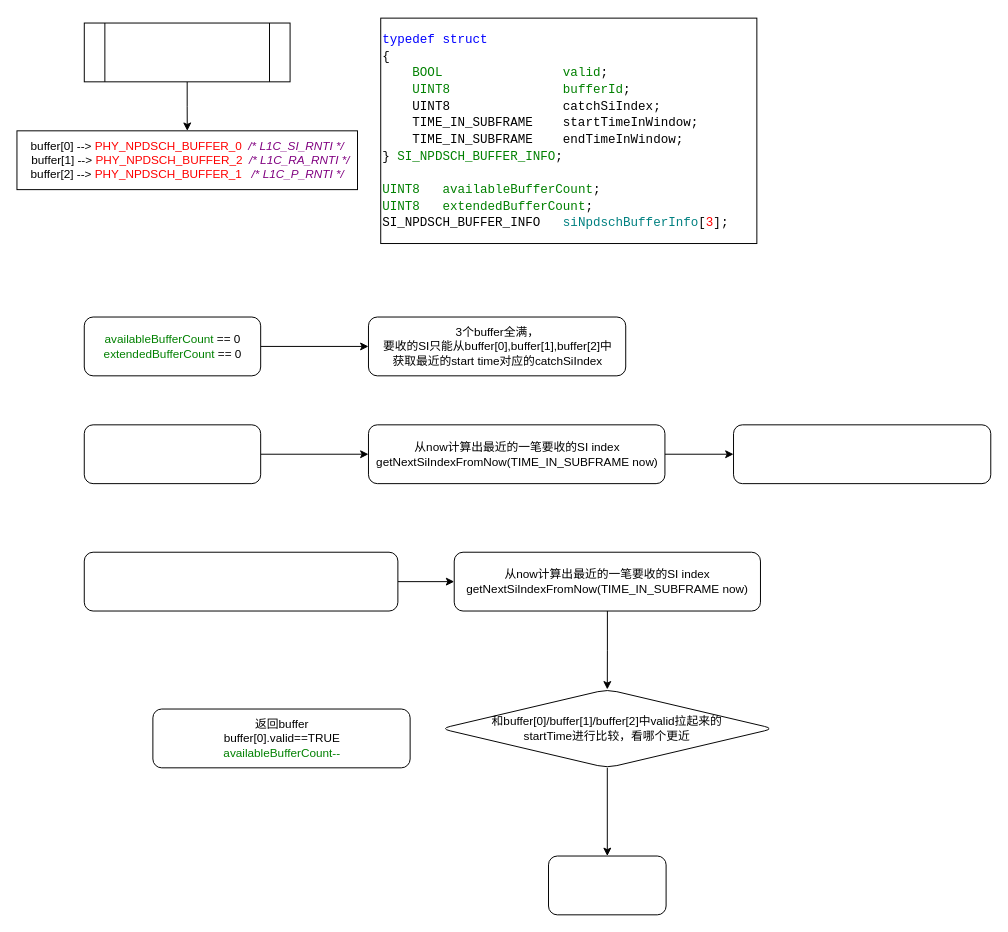
Image size: 1008x932. Some labels were removed from this diagram. The centre of each missing label's shape, as x and y in pixels:
1 <= (availableBufferCount + extendedBufferCount ) <= 2: the point at 240,581
availableBufferCount == 2 extendedBufferCount == 1: the point at 172,454
INIT availableBufferCount == 2 extendedBufferCount == 1: the point at 186,52
直接返回buffer[0], buffer[0].valid==TRUE availableBufferCount --: the point at 862,454
